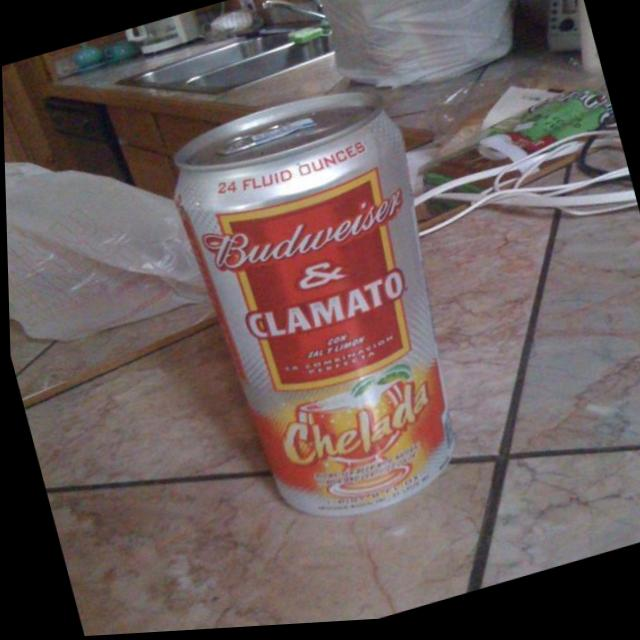metal: (176, 93, 452, 515)
